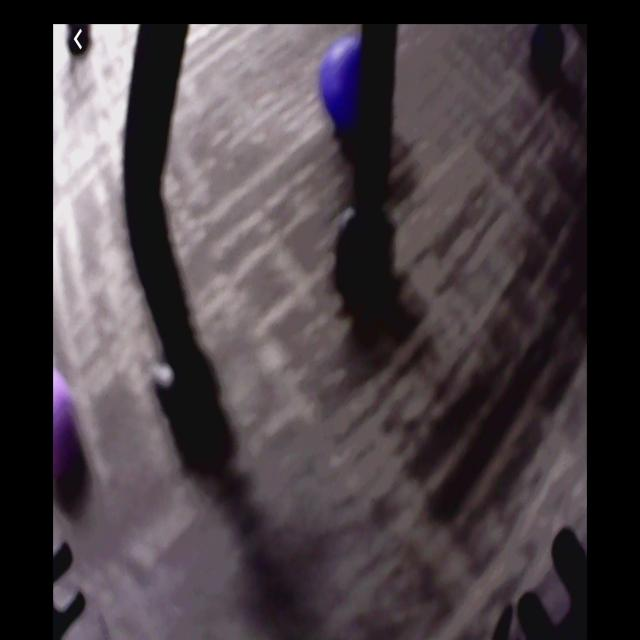ball: (55, 366, 85, 494), (321, 40, 362, 132)
